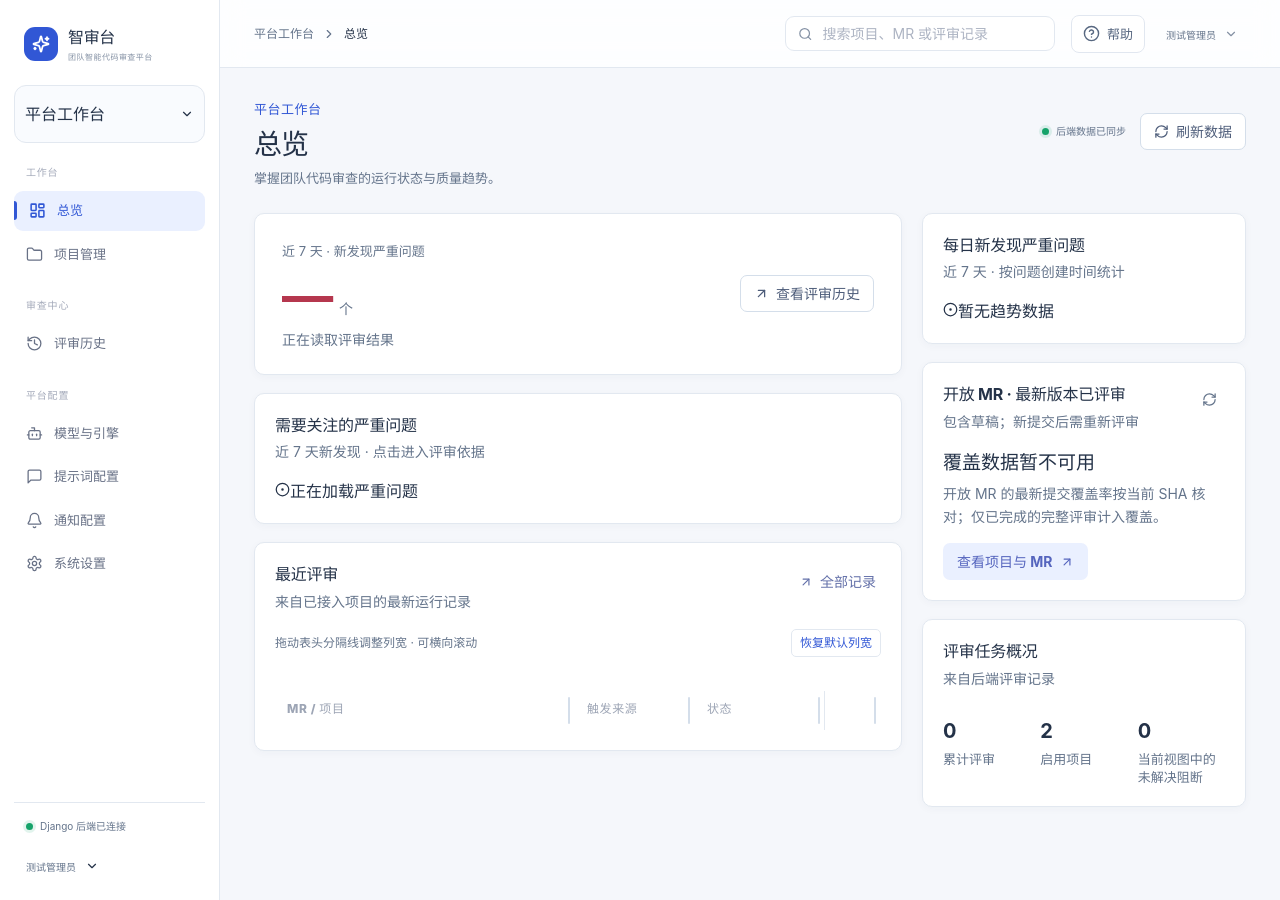
Test: keeps 自动合并门禁 unavailable after current project configuration fails to load
Expected: the text "Django 后端已连接" is shown, [26, 820, 126, 832]
Click the button with aria-label "切换项目".
click(110, 114)  # box [14, 85, 205, 143]
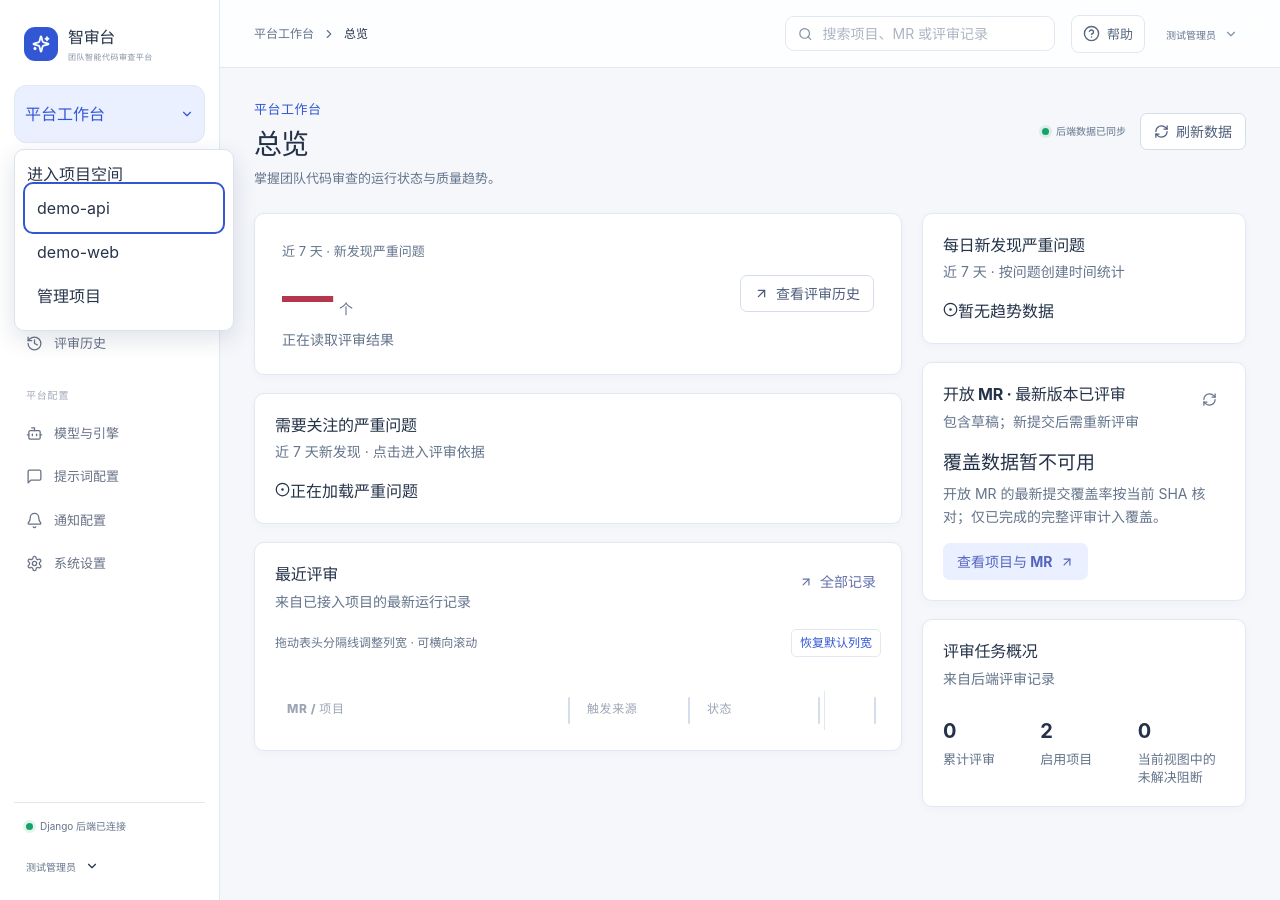
Click the button "demo-api".
click(124, 208)  # box [27, 186, 221, 230]
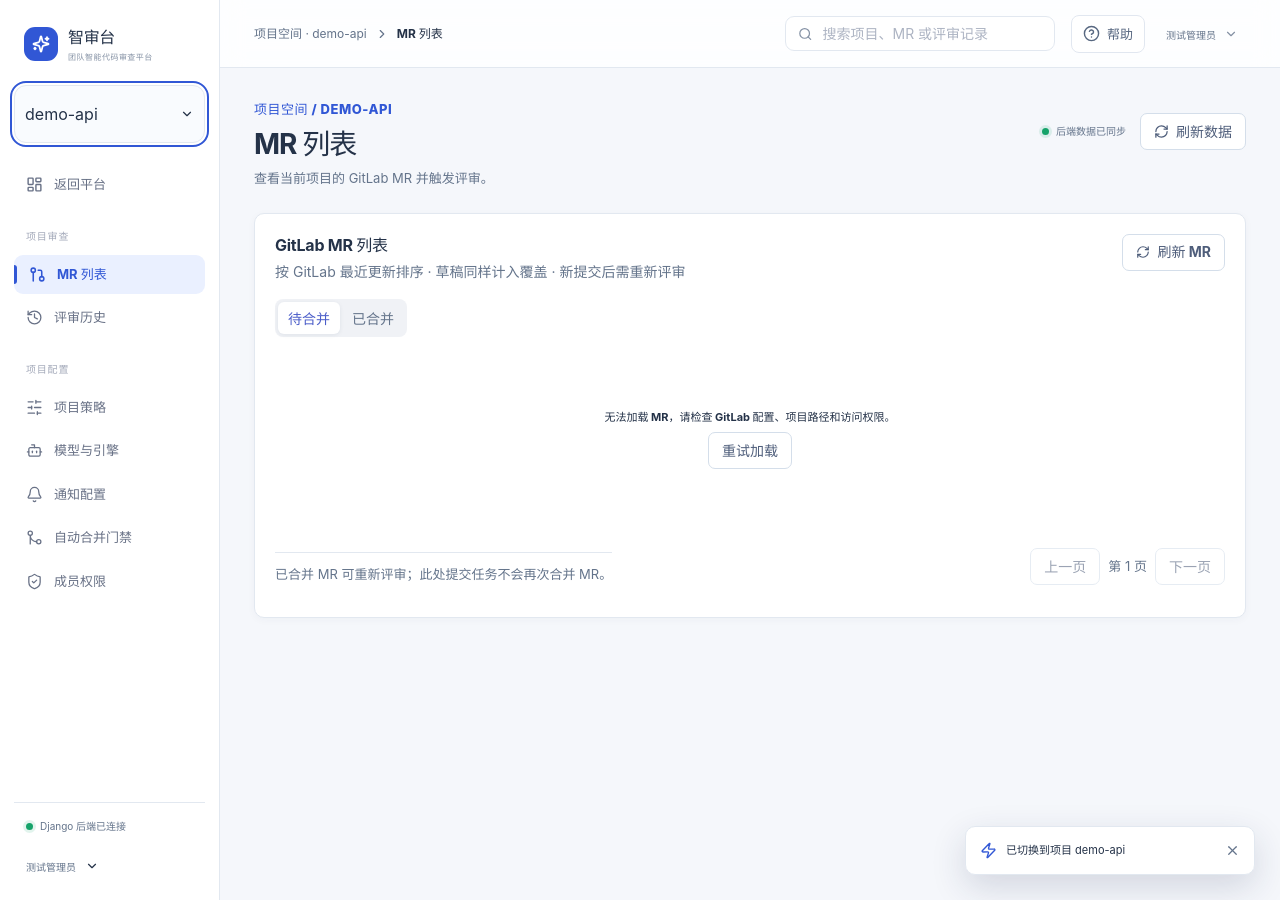
Click the button "自动合并门禁".
click(110, 538)  # box [14, 518, 205, 558]
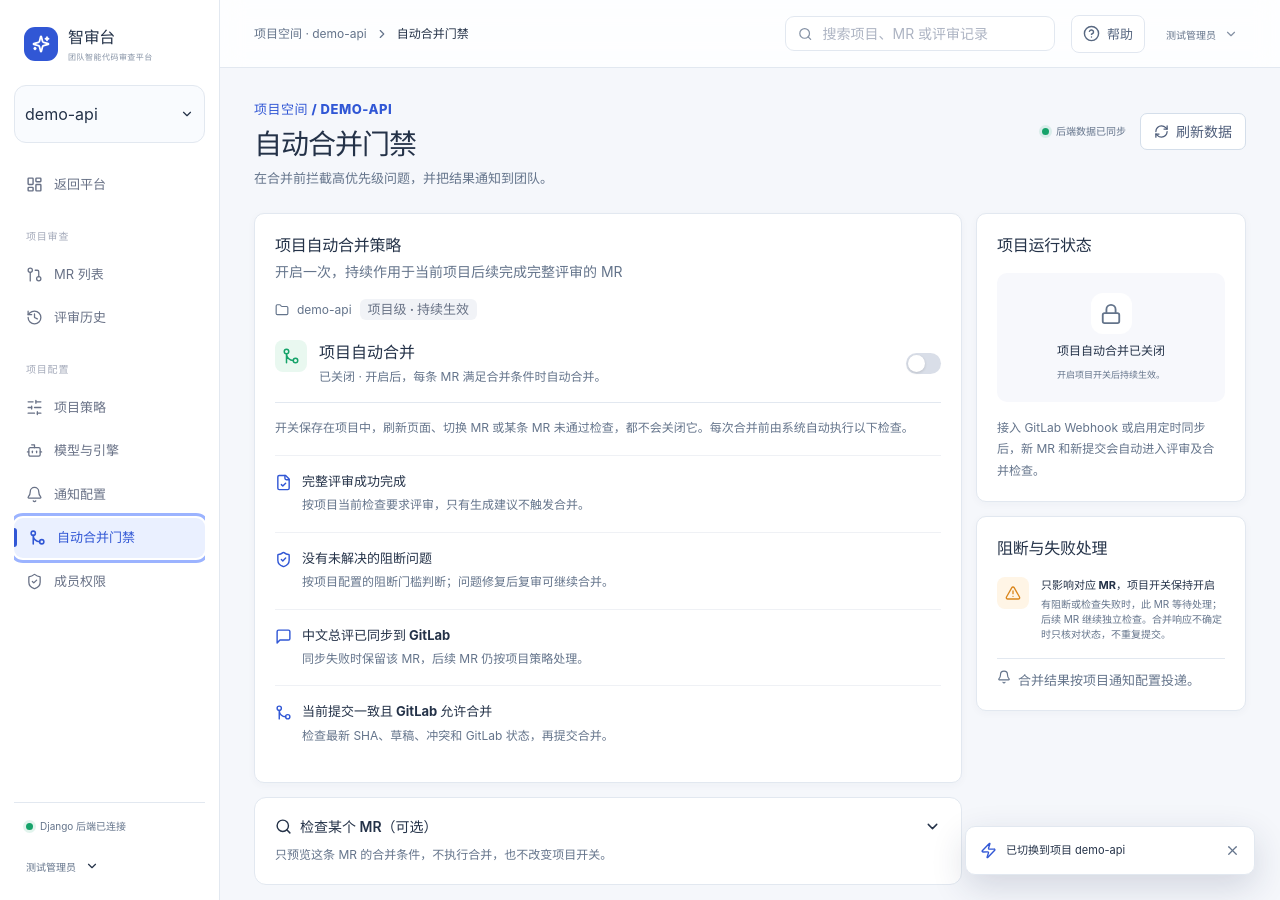
Click the button with aria-label "切换项目".
click(110, 114)  # box [14, 85, 205, 143]
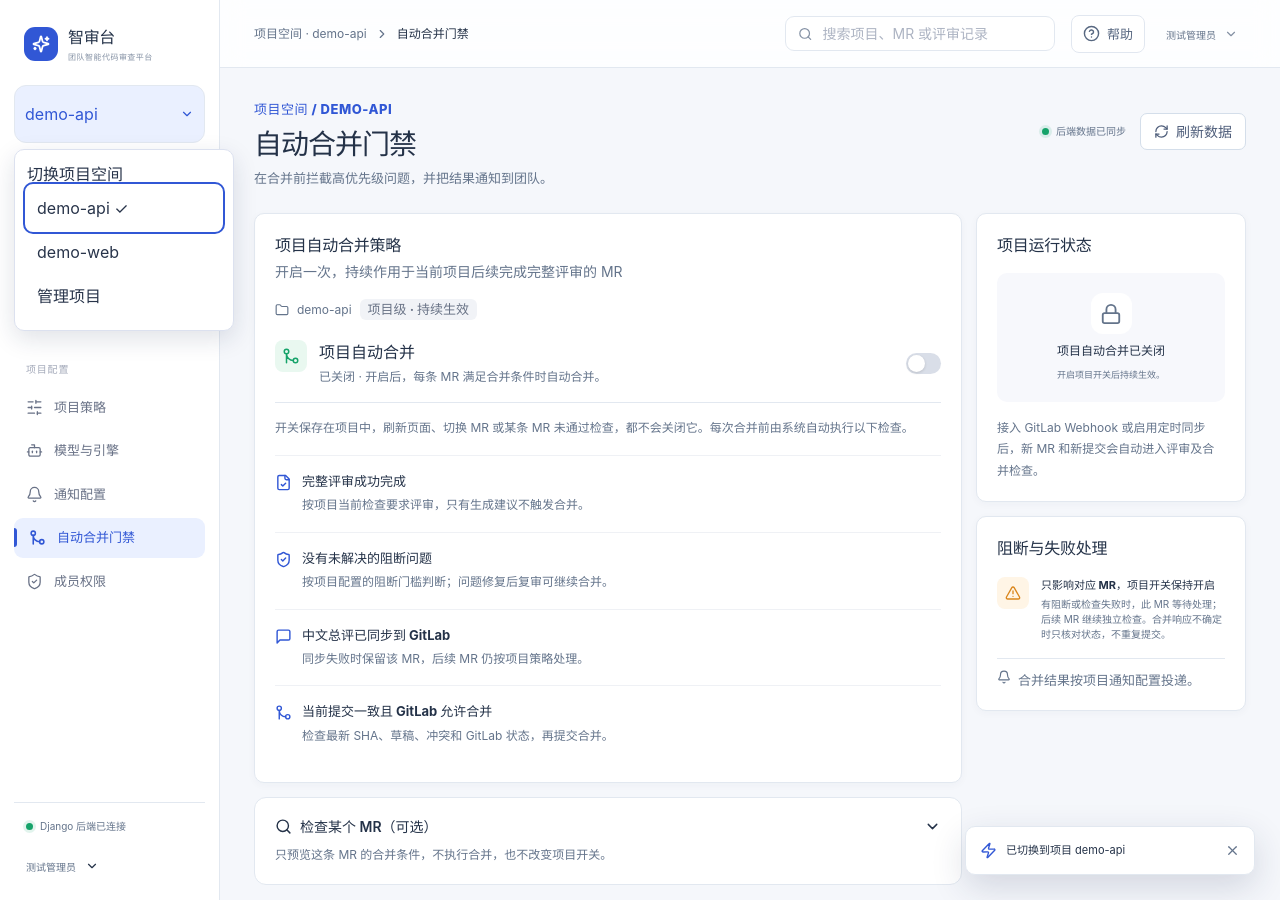
Click the button "demo-web".
click(124, 252)  # box [27, 230, 221, 274]
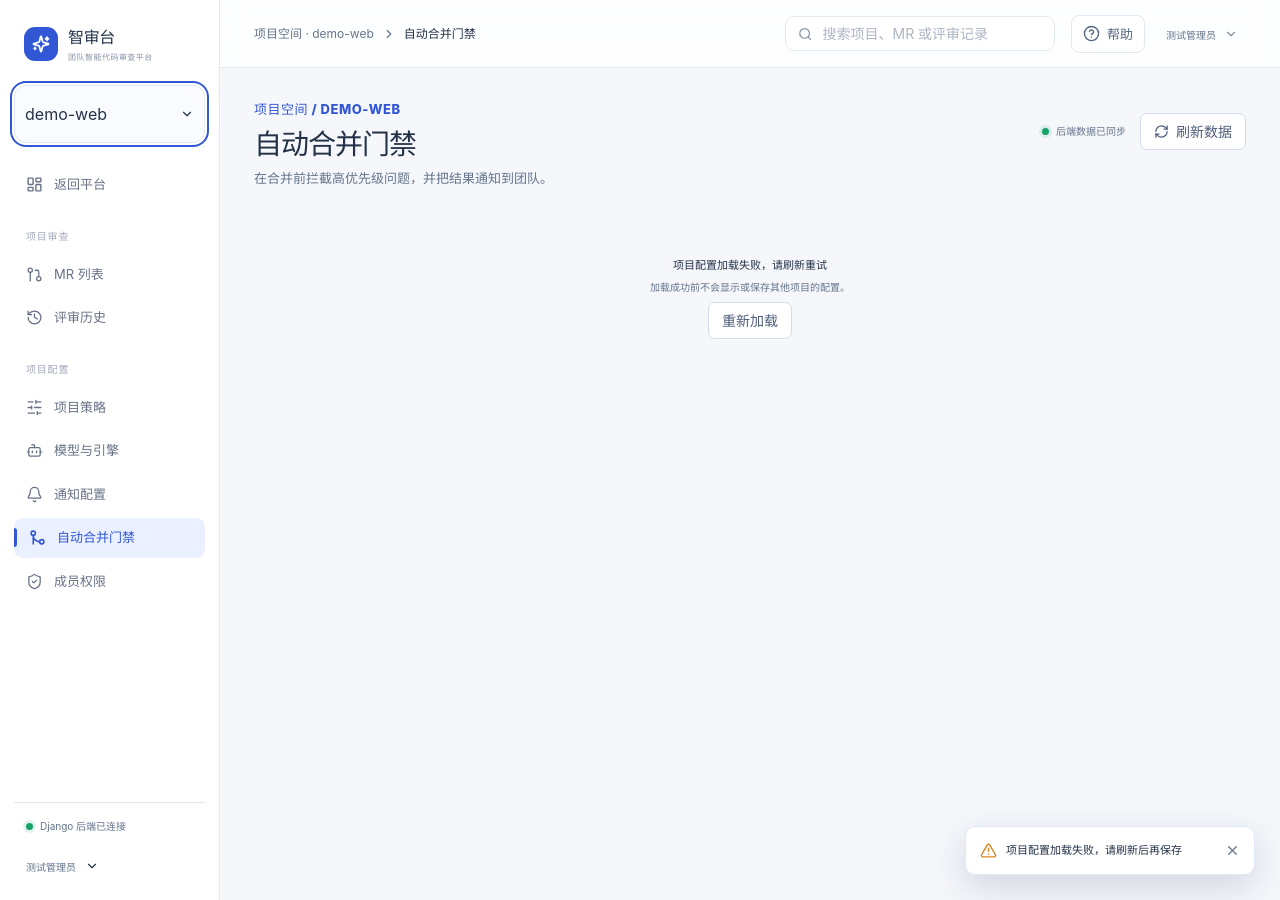
Result: the text "项目配置加载失败，请刷新重试" is shown at [673, 256, 827, 273]
